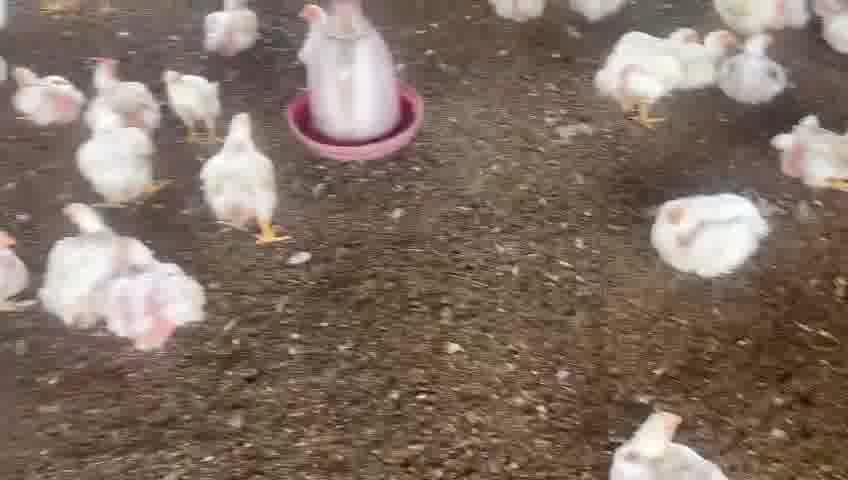AbNormal: (648, 194, 767, 279), (766, 115, 848, 189), (717, 33, 783, 105), (96, 56, 163, 125), (11, 64, 83, 126), (200, 0, 261, 55)
Normal: (42, 203, 181, 335), (202, 112, 289, 244), (602, 25, 702, 128), (78, 100, 165, 205), (612, 410, 720, 480), (158, 66, 221, 145)
